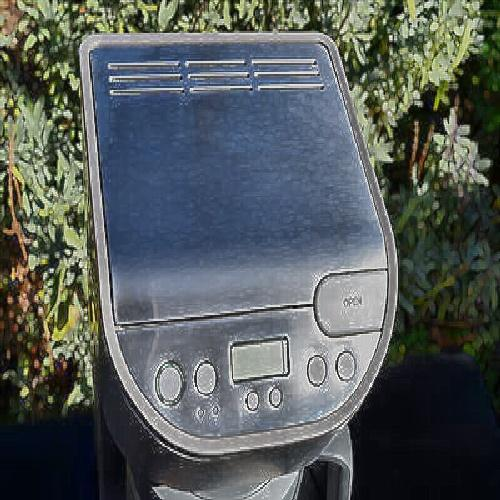coffee_maker: (67, 35, 392, 467)
